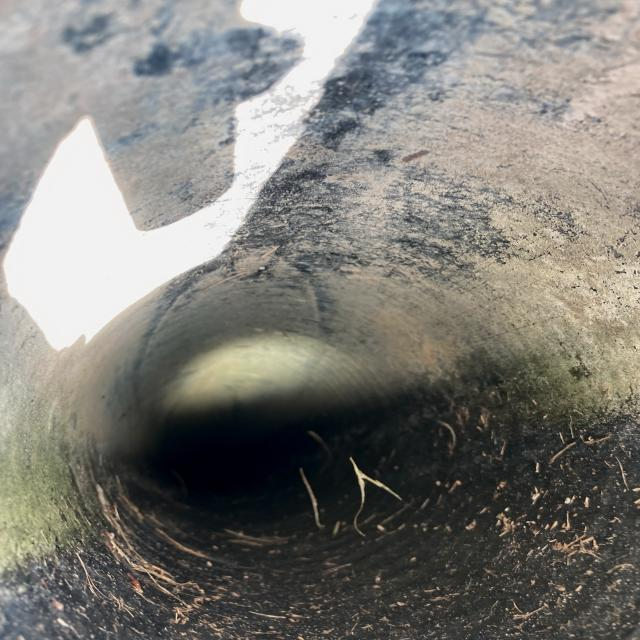root: (296, 456, 396, 536), (232, 521, 303, 556)
